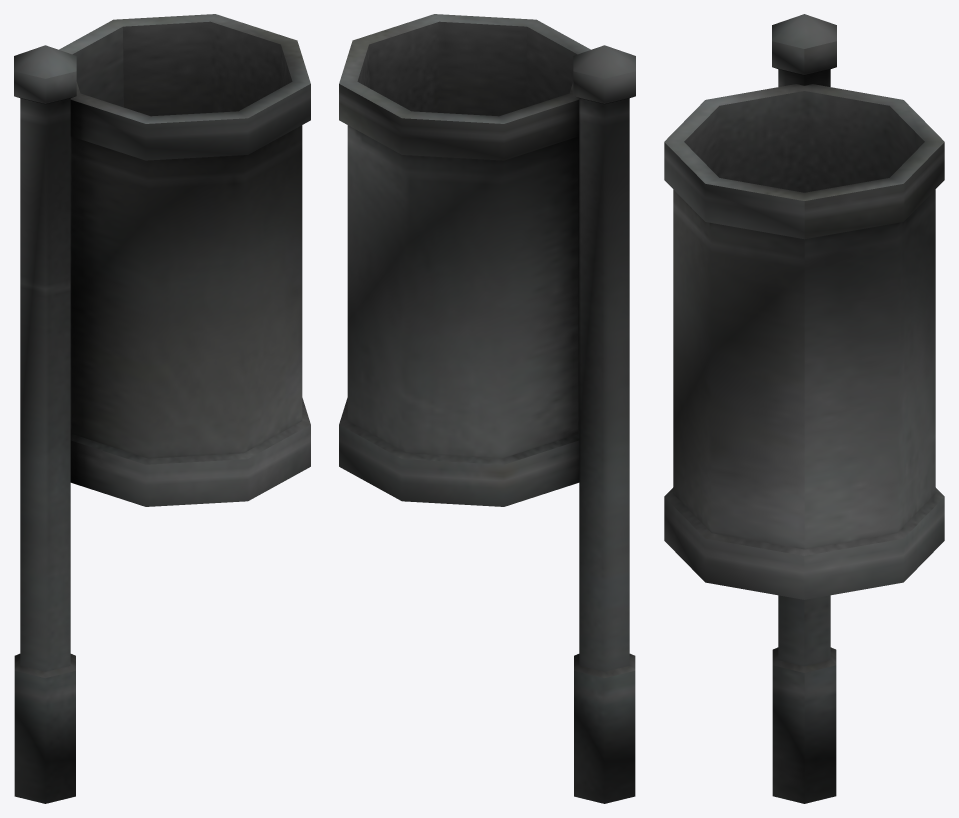
Rendered from PFB-Street-Decor-Pack-02-Litter-Bin-Metal-Small.fbx.
3 views of the same model, side by side, from view 1: azimuth 30°, elevation 25°; view 2: azimuth 150°, elevation 25°; view 3: azimuth 270°, elevation 25° (orthographic). The views are drawn at different scales.
Parts seen in each view (by area): view 1: Litter-Bin-Metal-Small; view 2: Litter-Bin-Metal-Small; view 3: Litter-Bin-Metal-Small.
Boxes of the visible parts, left/top/right/bottom form: Litter-Bin-Metal-Small: left=14, top=14, right=310, bottom=803; Litter-Bin-Metal-Small: left=339, top=14, right=635, bottom=803; Litter-Bin-Metal-Small: left=664, top=14, right=944, bottom=803.
Bounding box in the file's own units: 6.64 × 16.65 × 5.47.
